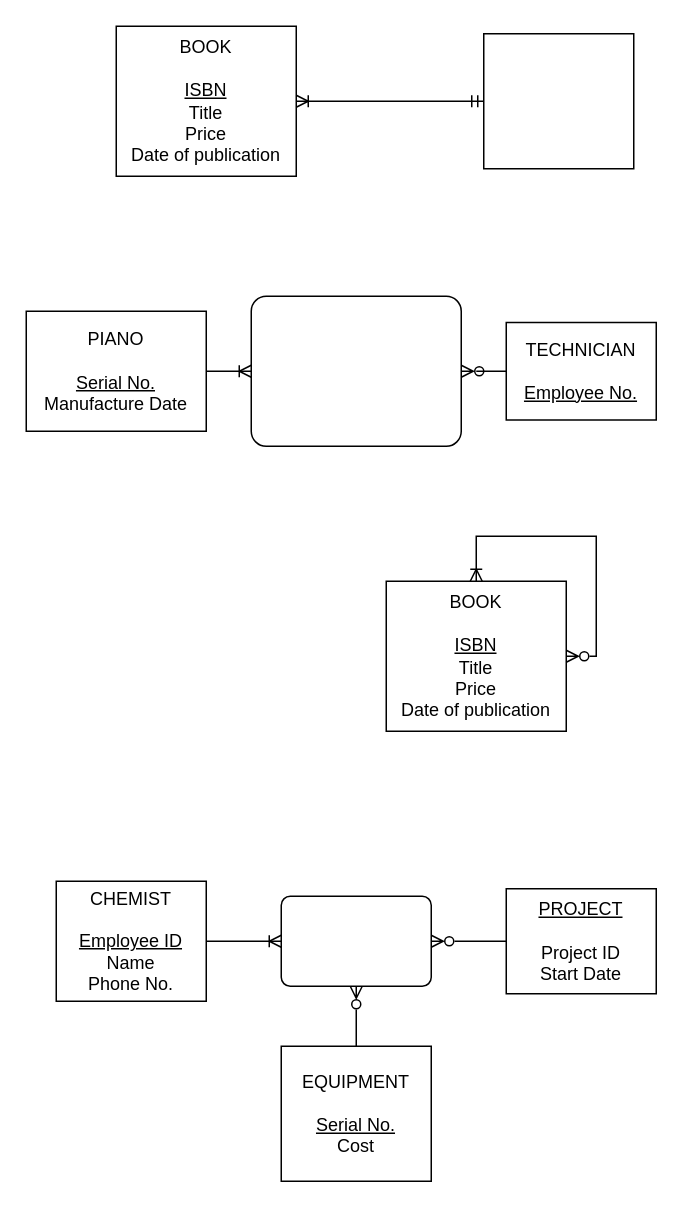
Image size: 683x1208. Some labels were removed from this diagram. Each missing label, with the centre of its shape:
ASSIGNMENT Assign Date: (x=355, y=940)
INSPECTION InspID (Serial No., Employee No.) Date Quality Grade: (x=355, y=370)
PUBLISHER ID Name Phone No.: (x=558, y=100)
